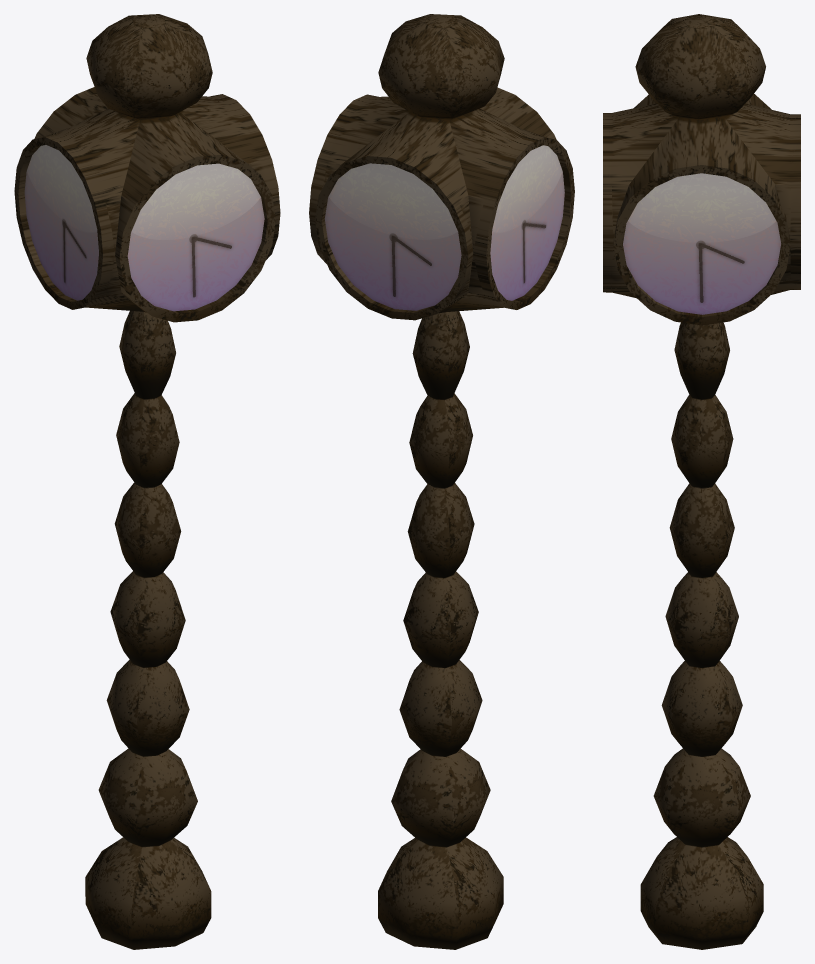
File: 4SidedClock.fbx
3 views of the same model, side by side, from view 1: azimuth 30°, elevation 25°; view 2: azimuth 150°, elevation 25°; view 3: azimuth 270°, elevation 25° (orthographic).
Parts seen in each view (by area): view 1: Clock_4side; view 2: Clock_4side; view 3: Clock_4side.
Part boxes in pixels (x1,y1,x2,y2): Clock_4side: (14,14,280,949); Clock_4side: (309,14,574,949); Clock_4side: (603,14,800,949).
Size of the model in its own units: 2.52 by 12.31 by 2.44.
1 material, 1 textured.
